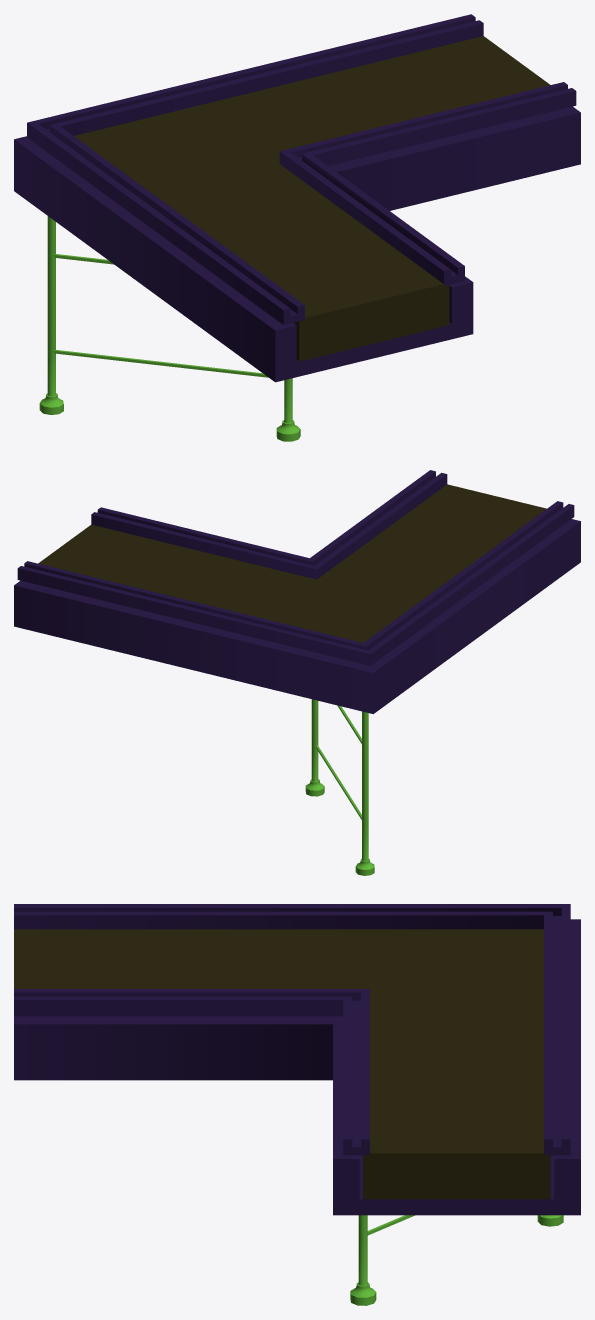
File: Conveyor_Angle_low.fbx
3 renders of one model, top to bottom at view 1: azimuth 30°, elevation 25°; view 2: azimuth 150°, elevation 25°; view 3: azimuth 270°, elevation 25°, orthographic. The views are drawn at different scales.
Visible parts, largest first — view 1: Conveyor_Angle_Side_low, Conveyor_Middle_Main_low001, Conveyor_Angle_Support_low; view 2: Conveyor_Angle_Side_low, Conveyor_Middle_Main_low001, Conveyor_Angle_Support_low; view 3: Conveyor_Middle_Main_low001, Conveyor_Angle_Side_low, Conveyor_Angle_Support_low.
Boxes of the visible parts, x1,y1,x2,y2 form: Conveyor_Angle_Side_low: (14,14,580,382); Conveyor_Middle_Main_low001: (74,36,550,361); Conveyor_Angle_Support_low: (39,216,300,441); Conveyor_Angle_Side_low: (14,470,580,714); Conveyor_Middle_Main_low001: (38,484,546,642); Conveyor_Angle_Support_low: (305,699,374,875); Conveyor_Middle_Main_low001: (14,929,550,1199); Conveyor_Angle_Side_low: (14,904,580,1215); Conveyor_Angle_Support_low: (350,1215,563,1305).
Size of the model in its own units: 128 by 76.89 by 128.
